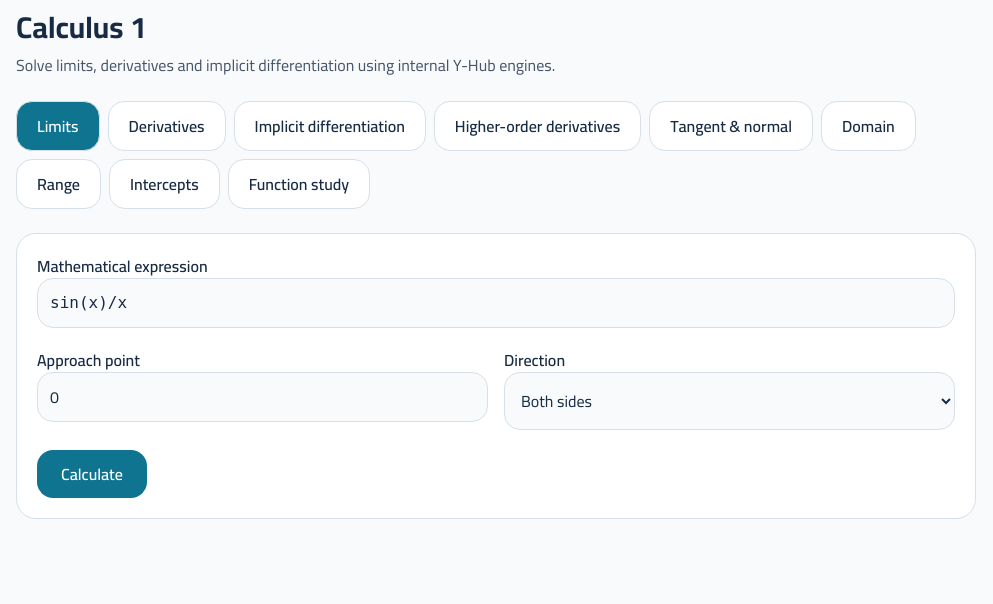
Calculus 1 exact range UI › does not certify unsupported functions
Click the tab "Range": (58, 184) [16,159,101,209]
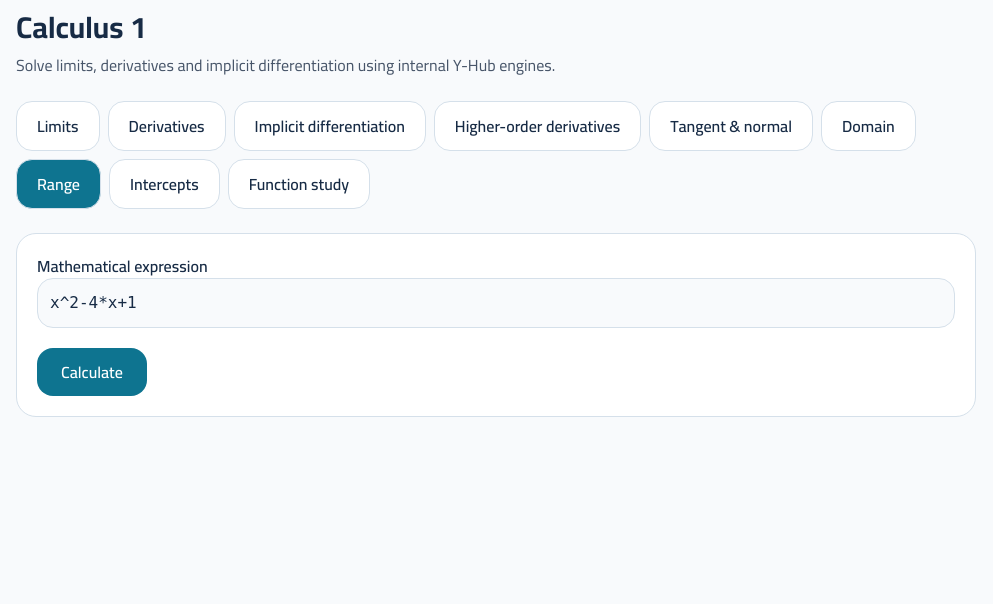
In the field labelled "Mathematical expression": (496, 303) [37,278,955,328], type "sin(x)"
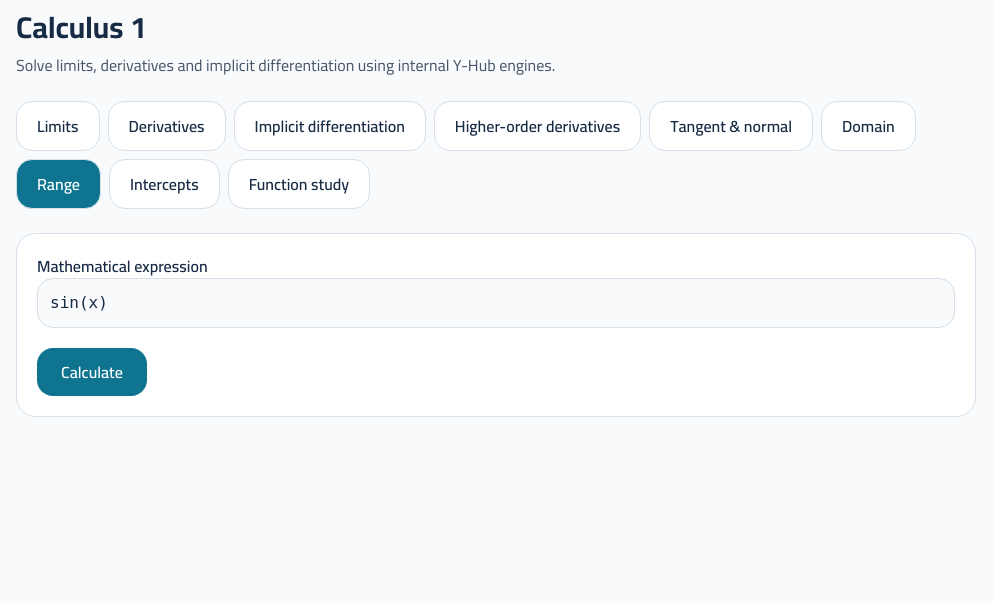
Click the button "Calculate": (92, 372) [37,348,147,396]
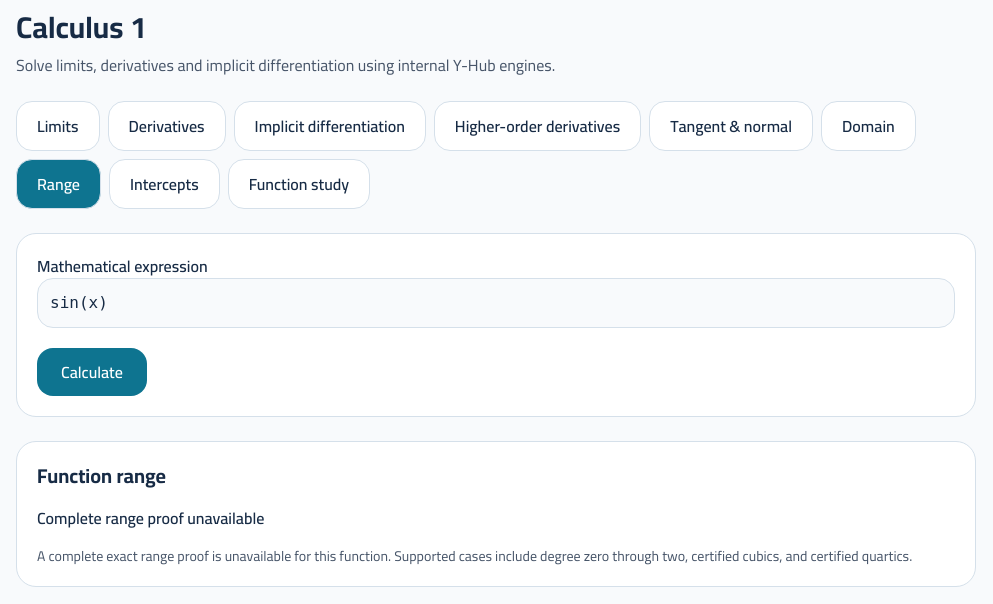
Now the element named "Unverified real range" is shown, box [16,441,976,587]
